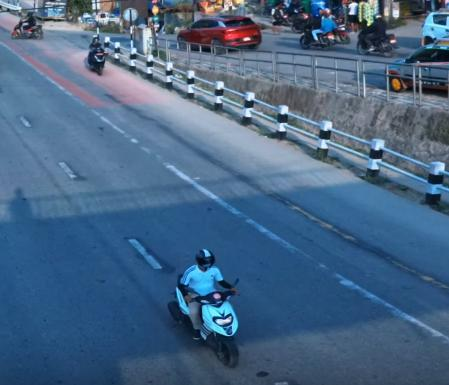car: (174, 14, 263, 55)
scooter: (172, 272, 252, 367), (84, 42, 109, 78), (11, 21, 47, 44)
